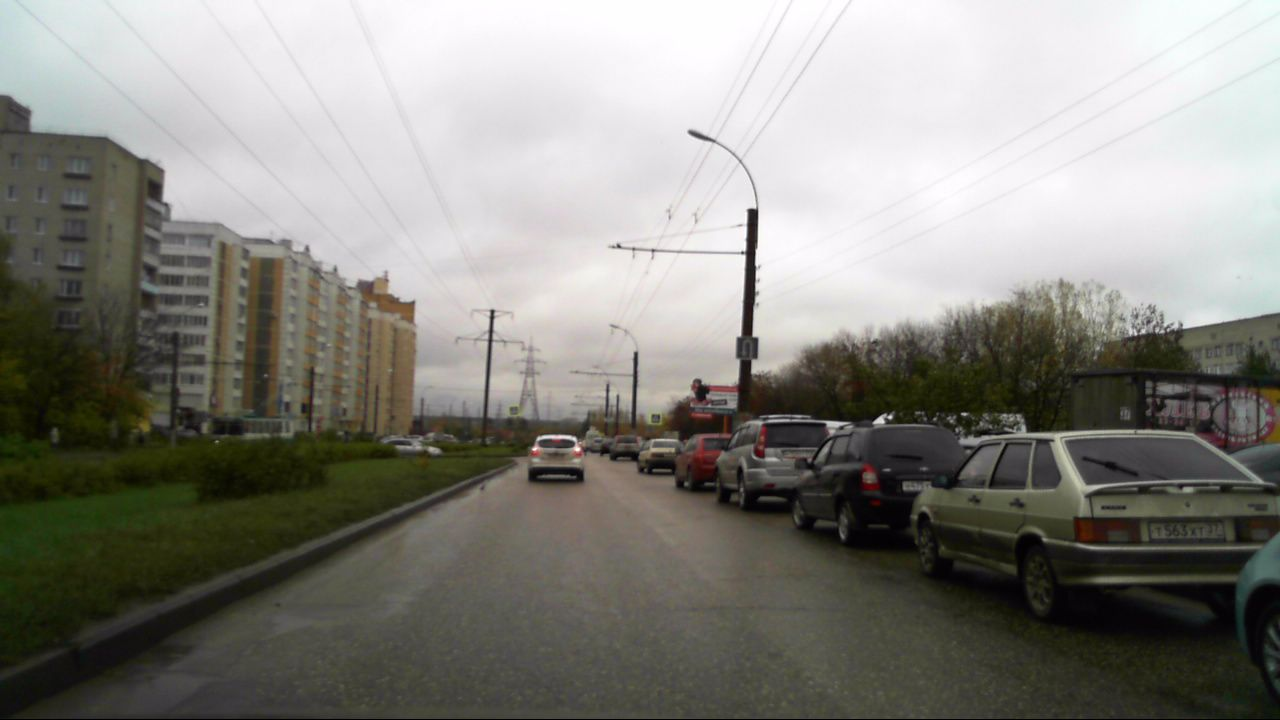U-turn: (736, 337, 758, 359)
